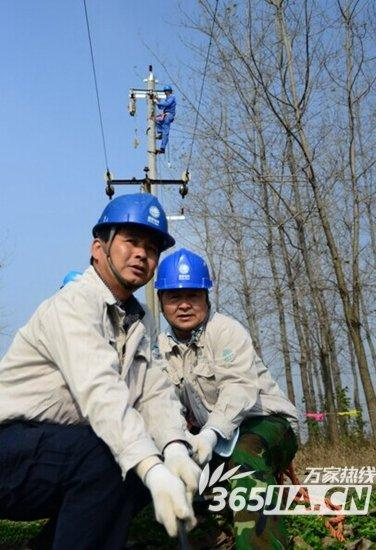gloves: (143, 462, 197, 538), (161, 441, 202, 529), (183, 427, 217, 466)
hard-hat: (91, 191, 174, 250), (154, 247, 213, 291)
person: (1, 191, 203, 548), (153, 248, 306, 550), (147, 80, 179, 161)
ppe-suit: (154, 97, 179, 145)
